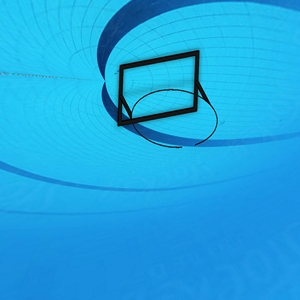circle: (105, 49, 222, 149)
